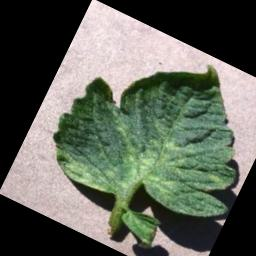Leaf_Mold: (46, 91, 197, 222), (207, 170, 224, 185)
